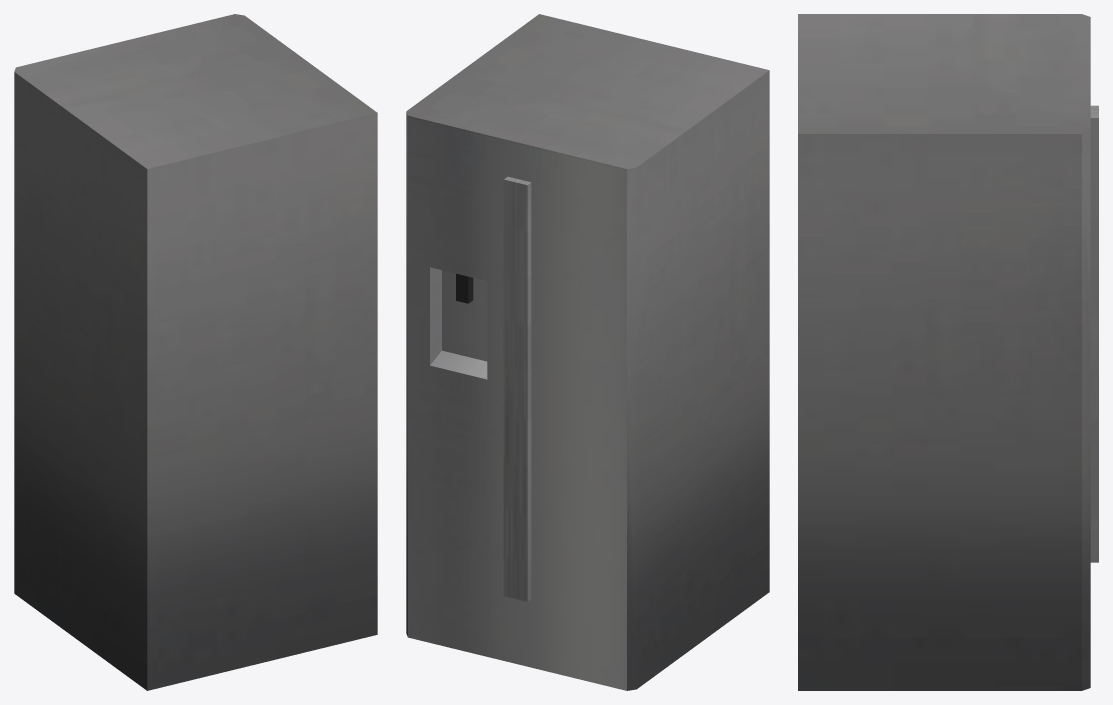
Rendered from ICEBOX.fbx.
3 views of the same model, side by side, from view 1: azimuth 30°, elevation 25°; view 2: azimuth 150°, elevation 25°; view 3: azimuth 270°, elevation 25° (orthographic). The views are drawn at different scales.
Parts seen in each view (by area): view 1: Cube; view 2: Cube; view 3: Cube.
Part boxes in pixels (x1,y1,x2,y2): Cube: (14, 14, 377, 690); Cube: (406, 14, 769, 690); Cube: (798, 14, 1098, 690).
Bounding box in the file's own units: 131 × 282 × 138.
3 materials, 2 textured.
